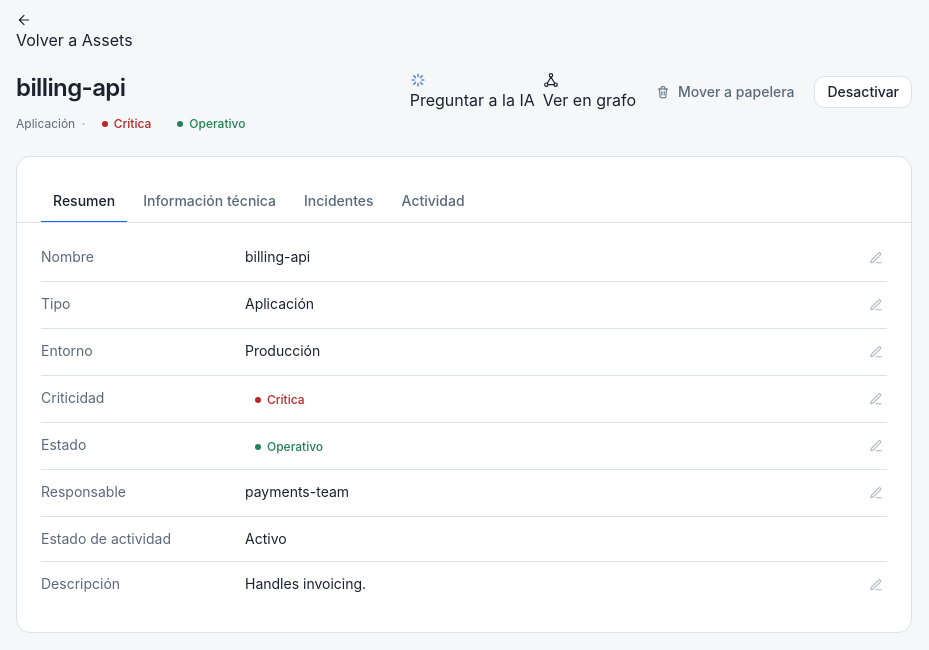
Test: AssetDetail (full page) › shows technical + activity data on their tabs
This screenshot has width=929, height=650.
Click the tab "Información técnica": [210, 202] box 131,181 -> 288,223
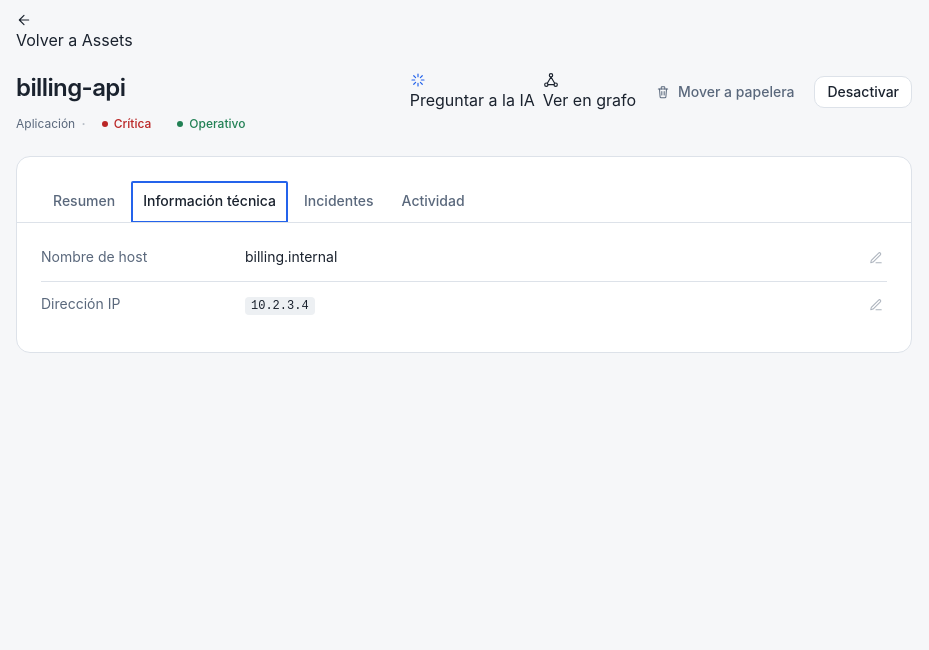
Expected: the text "billing.internal" is shown, 245,247 -> 337,267
Expected: the text "10.2.3.4" is shown, 245,297 -> 315,315
Click the tab "Actividad": [433, 202] box 390,181 -> 477,223
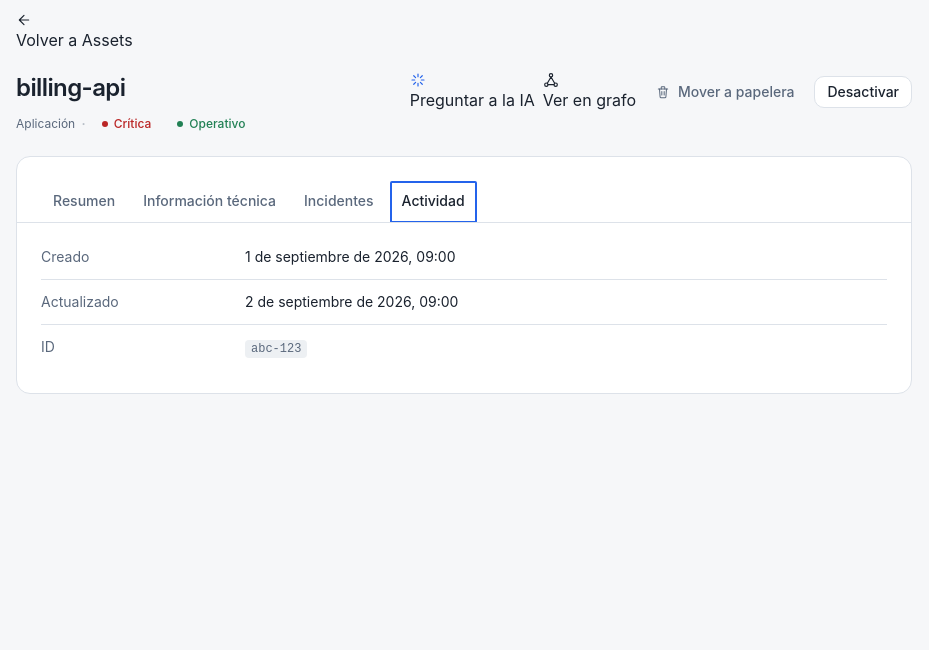
Expected: the text "abc-123" is shown, 245,340 -> 307,358
